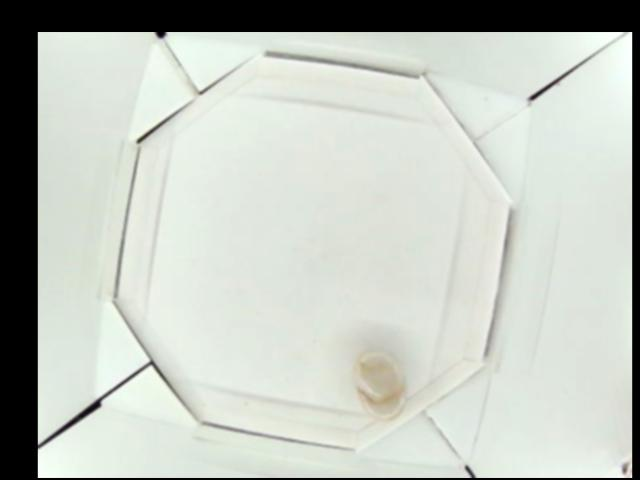Pebble: (357, 353, 407, 420)
